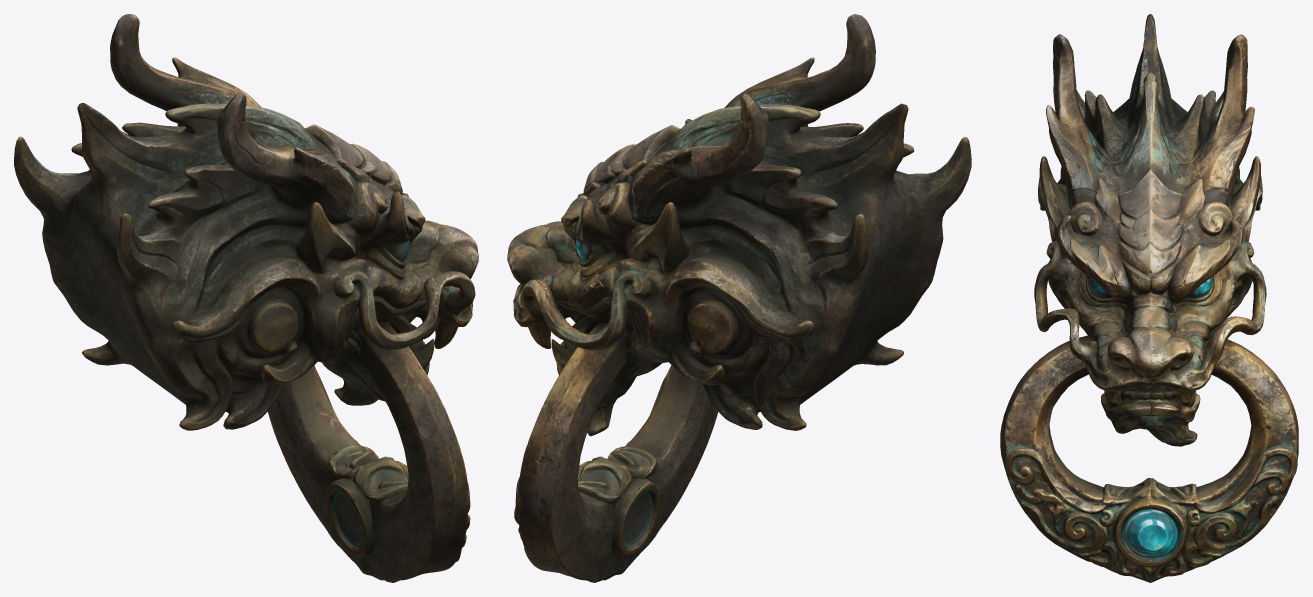
3 views of the same model, side by side, from view 1: azimuth 30°, elevation 25°; view 2: azimuth 150°, elevation 25°; view 3: azimuth 270°, elevation 25° (orthographic). The views are drawn at different scales.
Parts seen in each view (by area): view 1: tripo_node_fff06486-af0d-468c-8925-1514b6d2540a; view 2: tripo_node_fff06486-af0d-468c-8925-1514b6d2540a; view 3: tripo_node_fff06486-af0d-468c-8925-1514b6d2540a.
Part boxes in pixels (x1=…): tripo_node_fff06486-af0d-468c-8925-1514b6d2540a: x1=14, y1=14, x2=478, y2=582; tripo_node_fff06486-af0d-468c-8925-1514b6d2540a: x1=507, y1=14, x2=971, y2=582; tripo_node_fff06486-af0d-468c-8925-1514b6d2540a: x1=1000, y1=14, x2=1298, y2=582.
Size of the model in its own units: 0.7398 by 0.9784 by 0.5728.
Materials: 1 (1 with a texture image).
